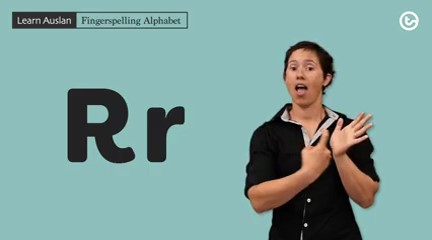R: (298, 106, 378, 182)
